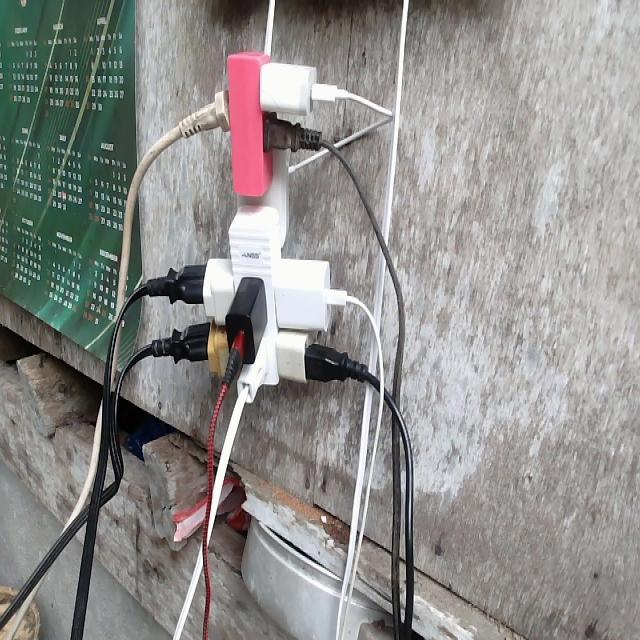-: (140, 48, 373, 400)
